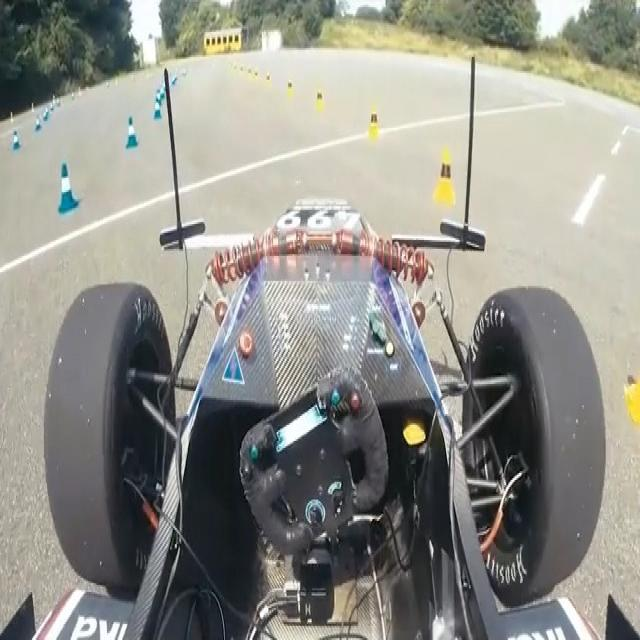blue_cone: (56, 160, 80, 217), (125, 115, 139, 150), (152, 98, 163, 124), (155, 86, 164, 108)
yellow_cone: (429, 145, 457, 209), (624, 342, 640, 430), (368, 106, 380, 141)
